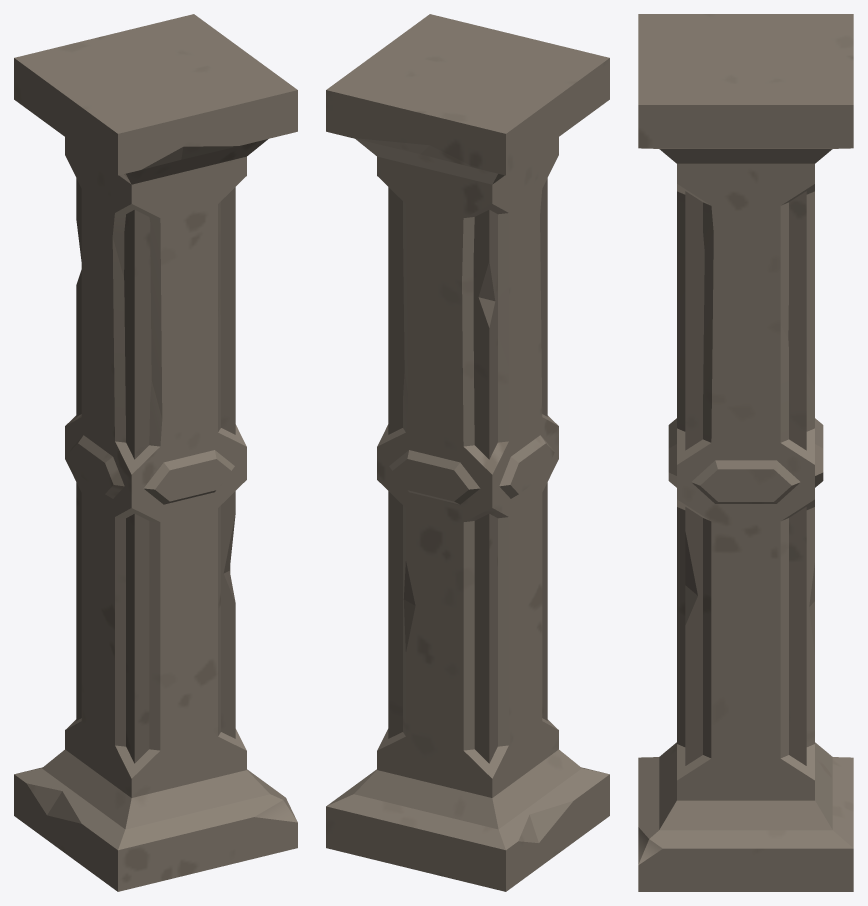
File: forge_pillar.gltf
3 renders of one model, left to right at view 1: azimuth 30°, elevation 25°; view 2: azimuth 150°, elevation 25°; view 3: azimuth 270°, elevation 25°, orthographic. The views are drawn at different scales.
Visible parts, largest first — view 1: forge_pillar; view 2: forge_pillar; view 3: forge_pillar.
Part boxes in pixels (<box>): forge_pillar: <box>14,14,297,891</box>; forge_pillar: <box>326,14,609,891</box>; forge_pillar: <box>638,14,853,891</box>.
Bounding box in the file's own units: 1.24 × 5 × 1.24.
Materials: 1 (1 with a texture image).
